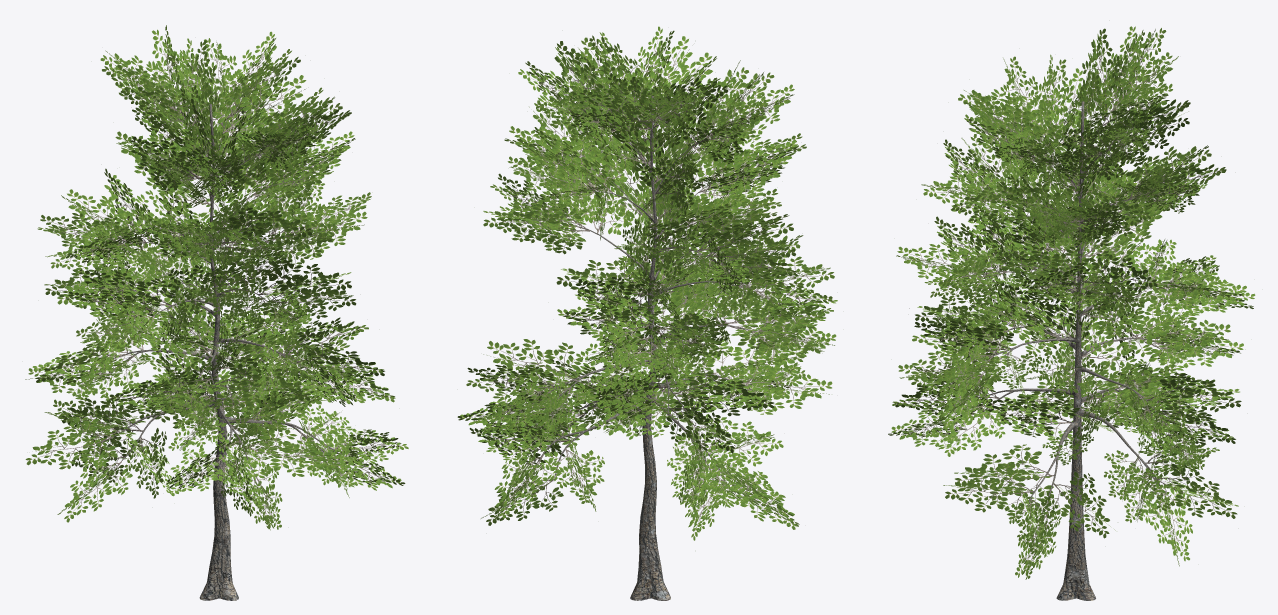
File: broadleaf.glb
3 views of the same model, side by side, from view 1: azimuth 30°, elevation 25°; view 2: azimuth 150°, elevation 25°; view 3: azimuth 270°, elevation 25° (orthographic). The views are drawn at different scales.
Visible parts, largest first — view 1: _2_TP23_Leaf_0, _2_TP23_Trunk_0; view 2: _2_TP23_Leaf_0, _2_TP23_Trunk_0; view 3: _2_TP23_Leaf_0, _2_TP23_Trunk_0.
Part boxes in pixels (left/top/right/bottom): _2_TP23_Leaf_0: left=25, top=25, right=408, bottom=530; _2_TP23_Trunk_0: left=101, top=103, right=338, bottom=600; _2_TP23_Leaf_0: left=457, top=26, right=837, bottom=540; _2_TP23_Trunk_0: left=536, top=92, right=765, bottom=600; _2_TP23_Leaf_0: left=888, top=26, right=1255, bottom=579; _2_TP23_Trunk_0: left=974, top=101, right=1167, bottom=600.
Bounding box in the file's own units: 21.99 × 33.61 × 21.35.
2 materials, 2 textured.
